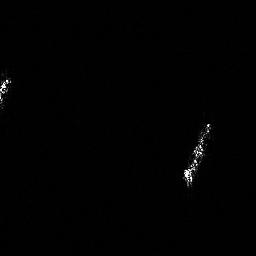ship: (179, 117, 217, 190)
